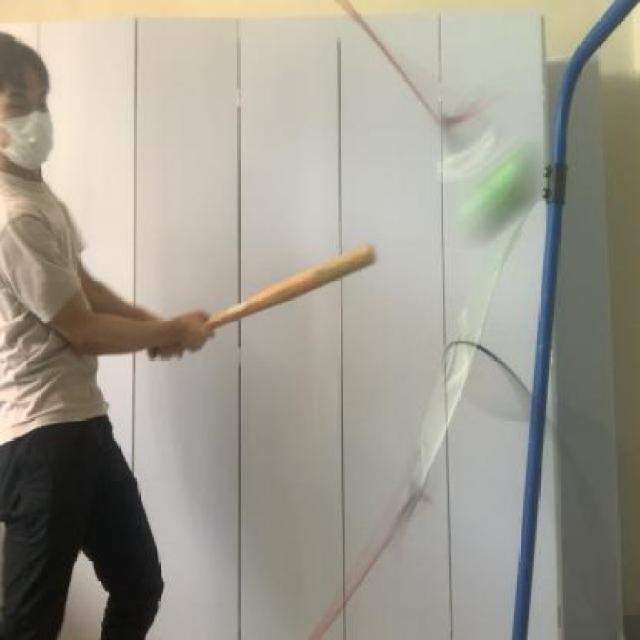baseball: (454, 150, 543, 245)
